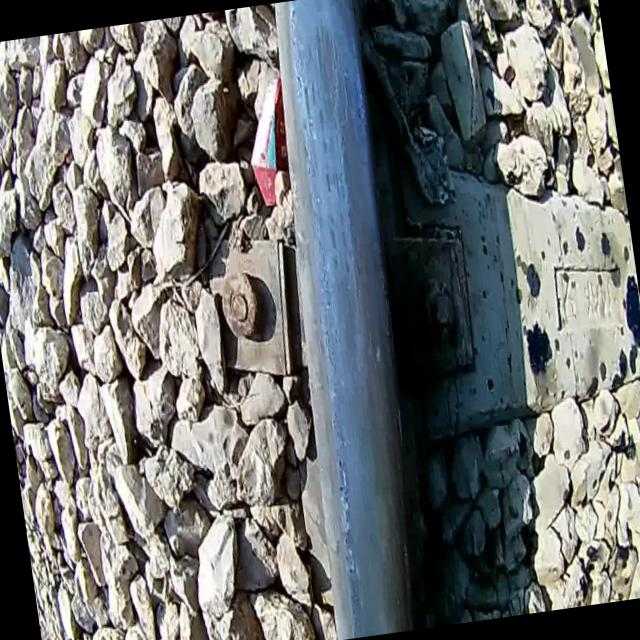Flakings: (259, 0, 387, 639)
Squats: (290, 8, 360, 148)
